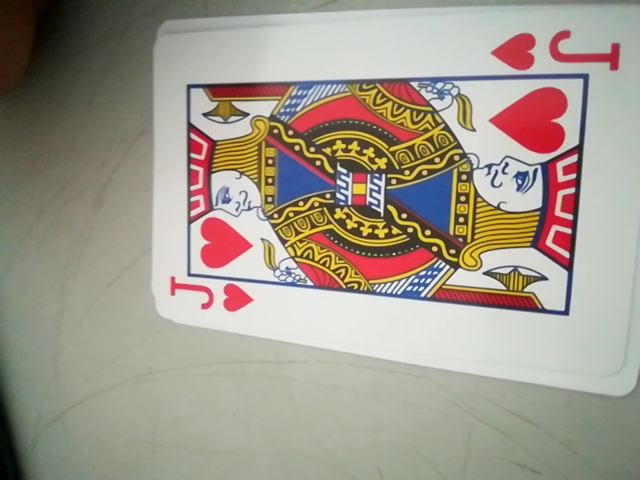hx j: (488, 25, 624, 75), (162, 272, 258, 321)
